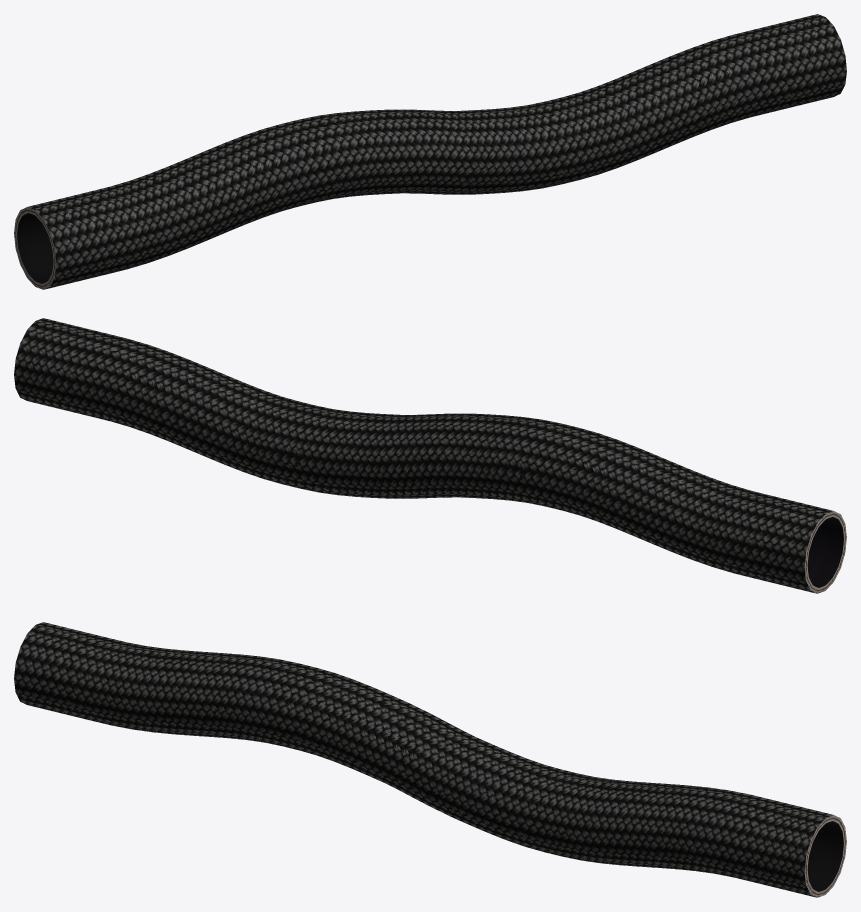
The picture shows the model from 3 angles, top to bottom: view 1: azimuth 30°, elevation 25°; view 2: azimuth 150°, elevation 25°; view 3: azimuth 330°, elevation 25°; orthographic projection.
Parts seen in each view (by area): view 1: Polymer Braid-24; view 2: Polymer Braid-24; view 3: Polymer Braid-24.
Part boxes in pixels (<box>): Polymer Braid-24: <box>14,14,846,289</box>; Polymer Braid-24: <box>14,318,846,593</box>; Polymer Braid-24: <box>14,622,846,897</box>.
Bounding box in the file's own units: 0.5 × 0.0719 × 0.0465.
Materials: 2 (2 with a texture image).
